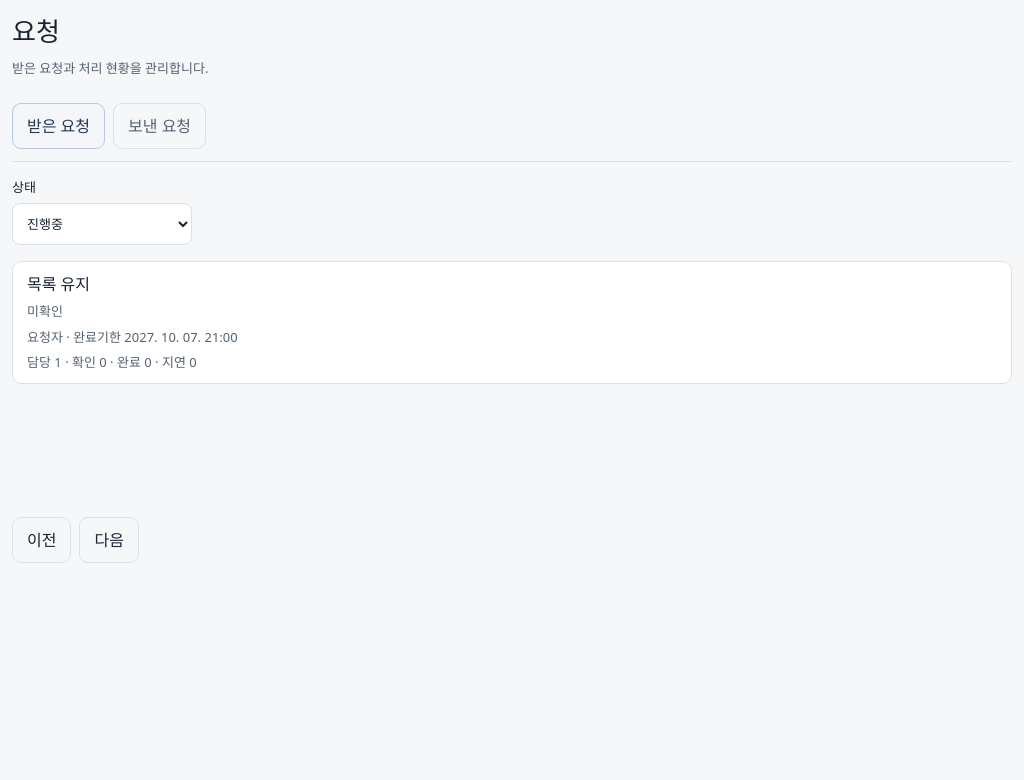
Test case: task scope switch hides previous scope rows until new data arrives; empty is only shown after success
Step 1. Click the button "보낸 요청" → (160, 126), box x1=113 y1=102 x2=206 y2=148
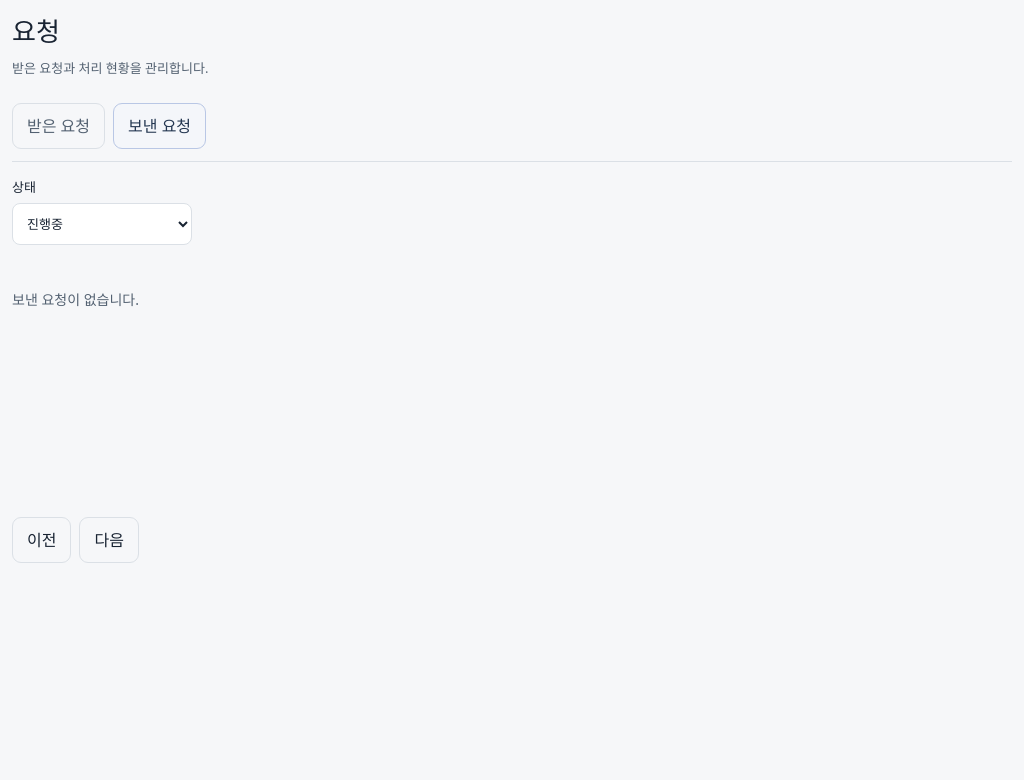
Now the button "목록 유지" is gone
Now the text "보낸 요청이 없습니다." is shown, box x1=12 y1=290 x2=139 y2=309
